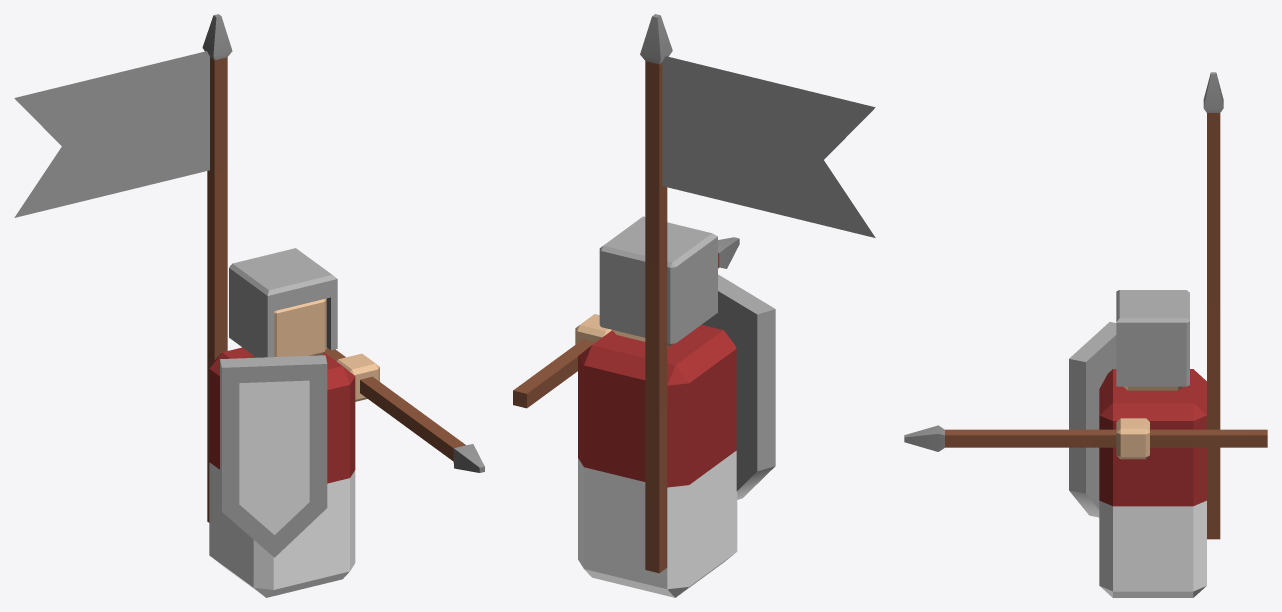
File: Soldier Red.fbx
3 renders of one model, left to right at view 1: azimuth 30°, elevation 25°; view 2: azimuth 150°, elevation 25°; view 3: azimuth 270°, elevation 25°, orthographic. The views are drawn at different scales.
Parts seen in each view (by area): view 1: Human, Flag, Spear (×2); view 2: Human, Flag, Spear (×2); view 3: Human, Spear (×2).
Boxes of the visible parts, bbox=[...] form: Human: bbox=[209, 248, 379, 597]; Flag: bbox=[14, 51, 209, 217]; Spear (×2): bbox=[202, 14, 484, 522]; Human: bbox=[575, 216, 775, 597]; Flag: bbox=[662, 56, 875, 237]; Spear (×2): bbox=[513, 14, 739, 573]; Human: bbox=[1069, 290, 1206, 597]; Spear (×2): bbox=[904, 72, 1267, 539].
Bounding box in the file's own units: 0.4926 × 0.8106 × 0.5406.
